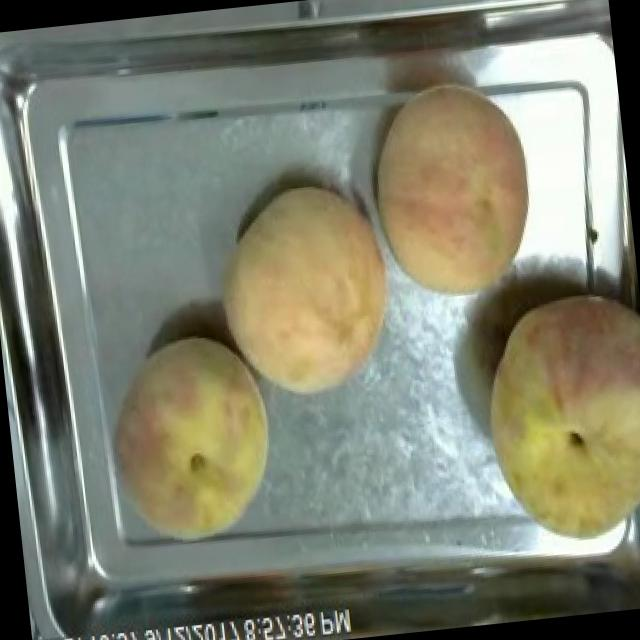Fruit: (462, 274, 640, 559), (202, 170, 412, 410), (354, 74, 551, 316), (89, 321, 289, 559)
